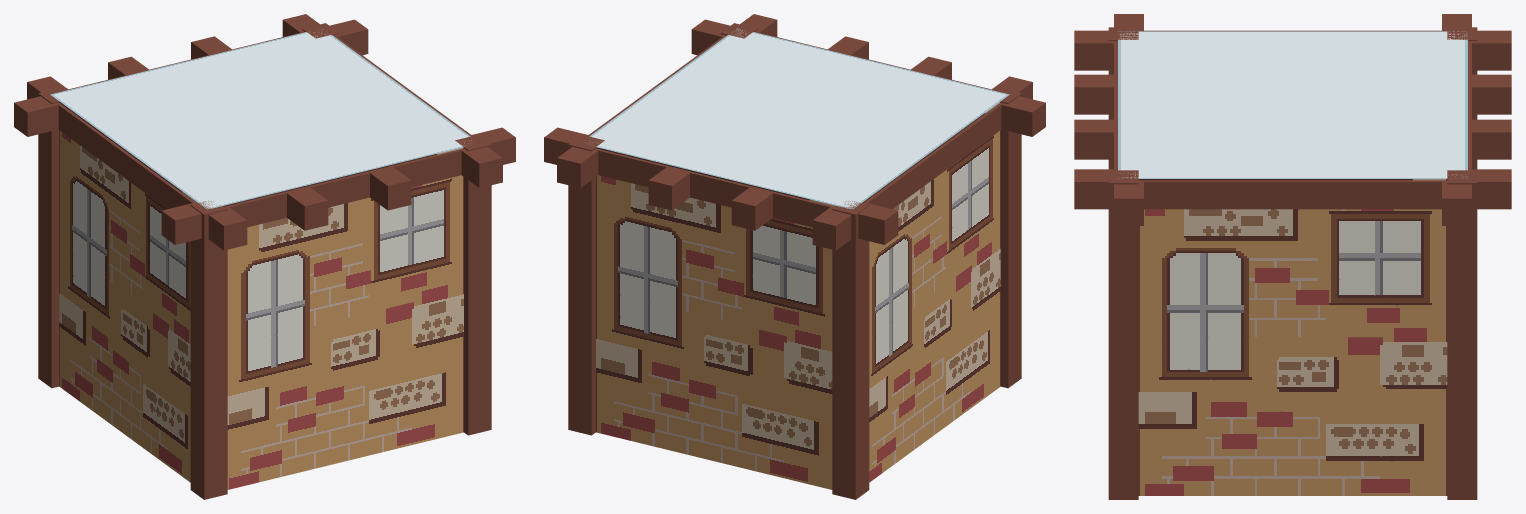
Rendered from OldTown_HouseBody2_gltf.gltf.
The picture shows the model from 3 angles, left to right: view 1: azimuth 30°, elevation 25°; view 2: azimuth 150°, elevation 25°; view 3: azimuth 270°, elevation 25°; orthographic projection. The views are drawn at different scales.
Visible parts, largest first — view 1: housebody, housesupportbeams (×9); view 2: housebody, housesupportbeams (×9); view 3: housebody, housesupportbeams (×10).
Boxes of the visible parts, left/top/right/bottom form: housebody: left=50, top=29, right=471, bottom=489; housesupportbeams (×9): left=14, top=14, right=515, bottom=499; housebody: left=589, top=28, right=1009, bottom=489; housesupportbeams (×9): left=544, top=14, right=1045, bottom=499; housebody: left=1118, top=31, right=1467, bottom=495; housesupportbeams (×10): left=1074, top=14, right=1511, bottom=499.
Bounding box in the file's own units: 10 × 8 × 10.
2 materials, 2 textured.
